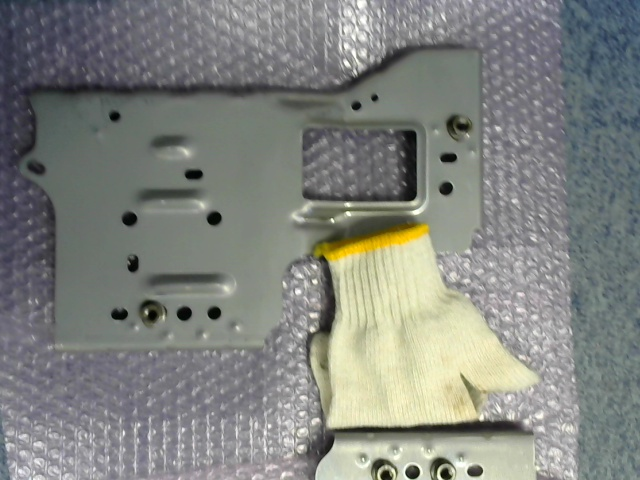dog: (446, 113, 473, 142), (139, 300, 167, 327)
